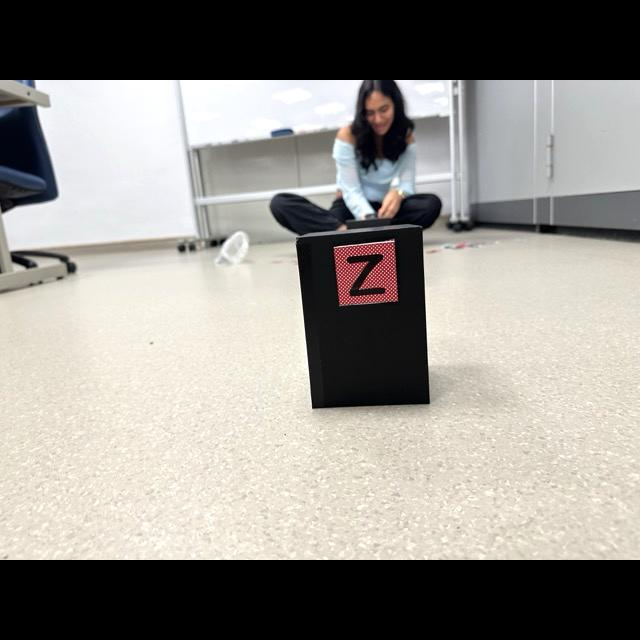Z: (347, 254, 385, 295)
